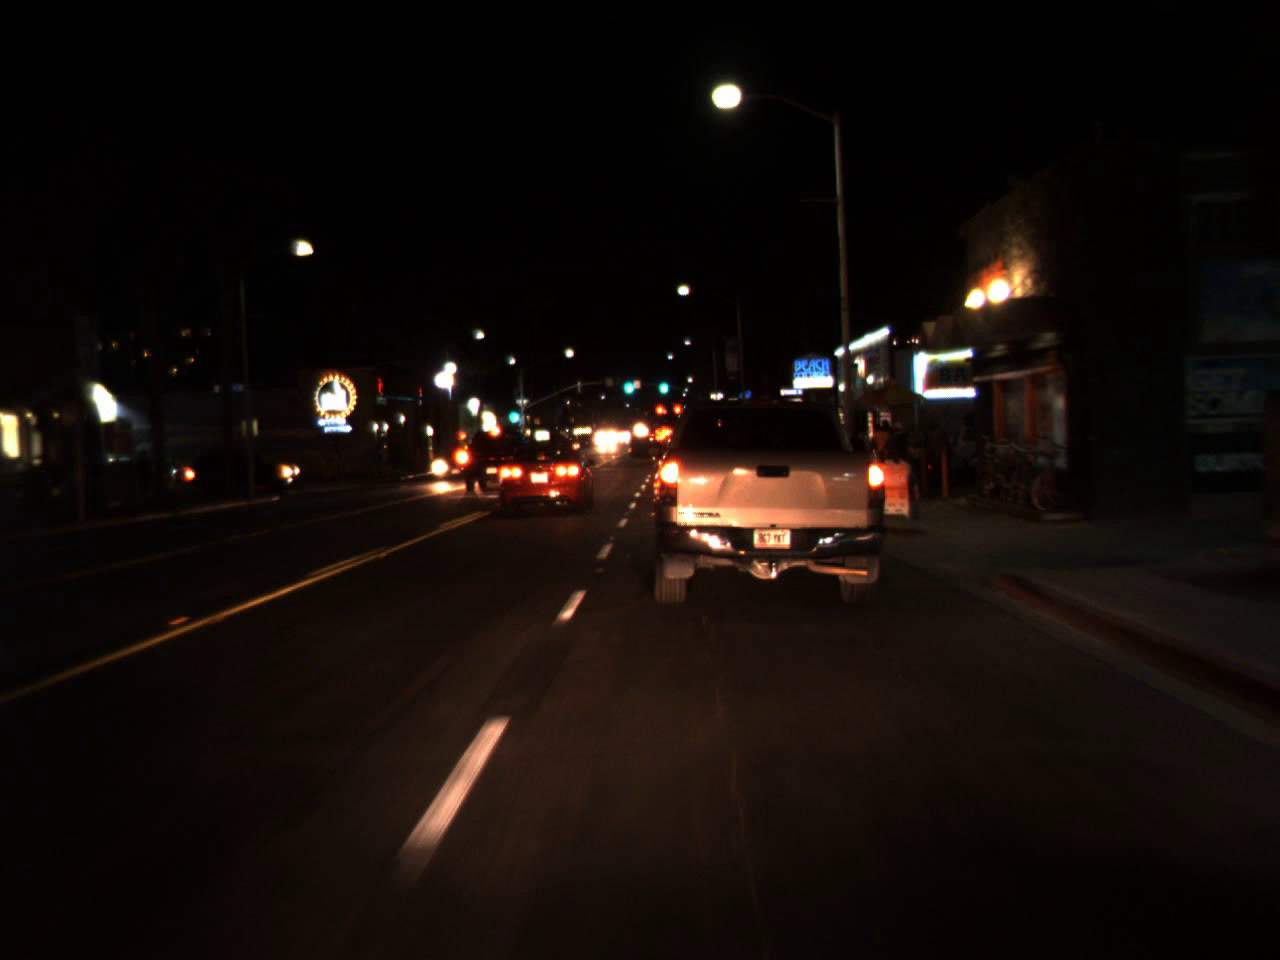go: (619, 368, 637, 398), (504, 397, 520, 427), (656, 370, 670, 397)
